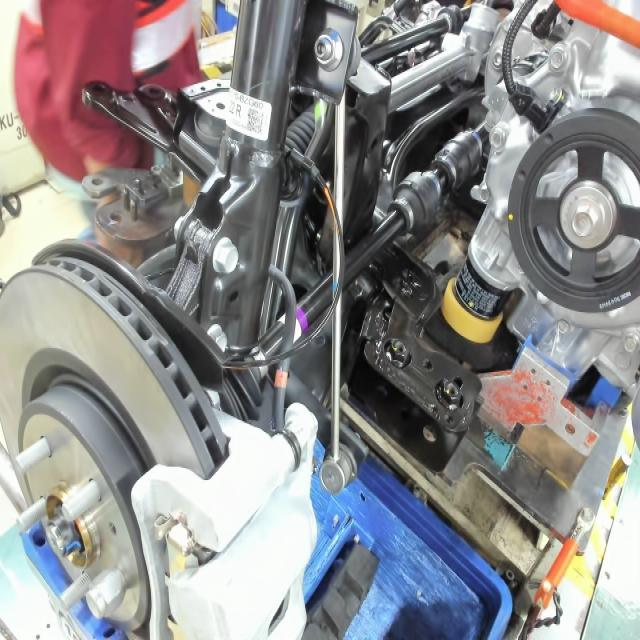Absorber RH-22: (225, 96, 264, 136)
Disc-HT: (9, 346, 163, 633)
Drive Shaft-UG: (290, 303, 310, 342)
